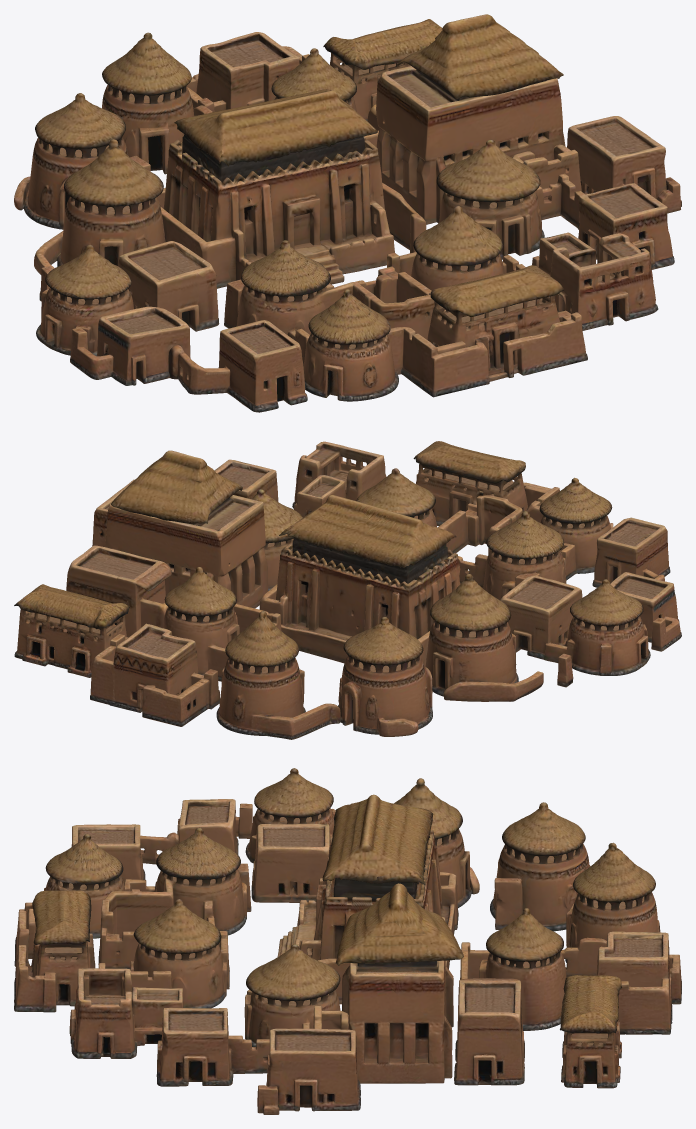
Rendered from Ancient Town (West African).fbx.
3 views of the same model, one above another, from view 1: azimuth 30°, elevation 25°; view 2: azimuth 150°, elevation 25°; view 3: azimuth 270°, elevation 25° (orthographic). The views are drawn at different scales.
Parts seen in each view (by area): view 1: tripo_node_aed1b5f1; view 2: tripo_node_aed1b5f1; view 3: tripo_node_aed1b5f1.
Part boxes in pixels (<box>): tripo_node_aed1b5f1: <box>14,14,681,412</box>; tripo_node_aed1b5f1: <box>14,441,681,739</box>; tripo_node_aed1b5f1: <box>14,768,681,1114</box>.
Bounding box in the file's own units: 1 × 0.2641 × 0.9994.
